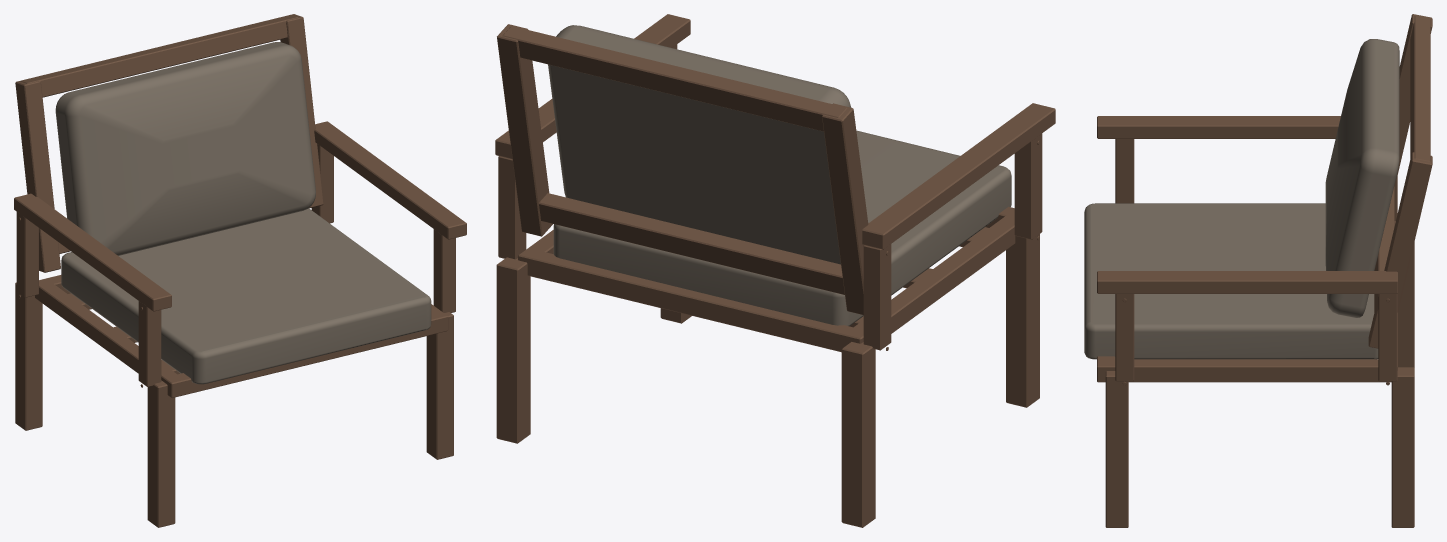
File: main-lounge-chair-eaf62a651898.glb
The picture shows the model from 3 angles, left to right: view 1: azimuth 30°, elevation 25°; view 2: azimuth 150°, elevation 25°; view 3: azimuth 270°, elevation 25°; orthographic projection. The views are drawn at different scales.
Visible parts, largest first — view 1: cover-cloth, wood; view 2: wood, cover-cloth; view 3: cover-cloth, wood.
Part boxes in pixels (x1,y1,x2,y2): cover-cloth: [55, 42, 431, 384]; wood: [14, 14, 466, 527]; wood: [495, 14, 1055, 527]; cover-cloth: [548, 25, 1011, 326]; cover-cloth: [1084, 39, 1399, 359]; wood: [1097, 14, 1432, 527].
Bounding box in the file's own units: 0.78 × 0.7997 × 0.694.
